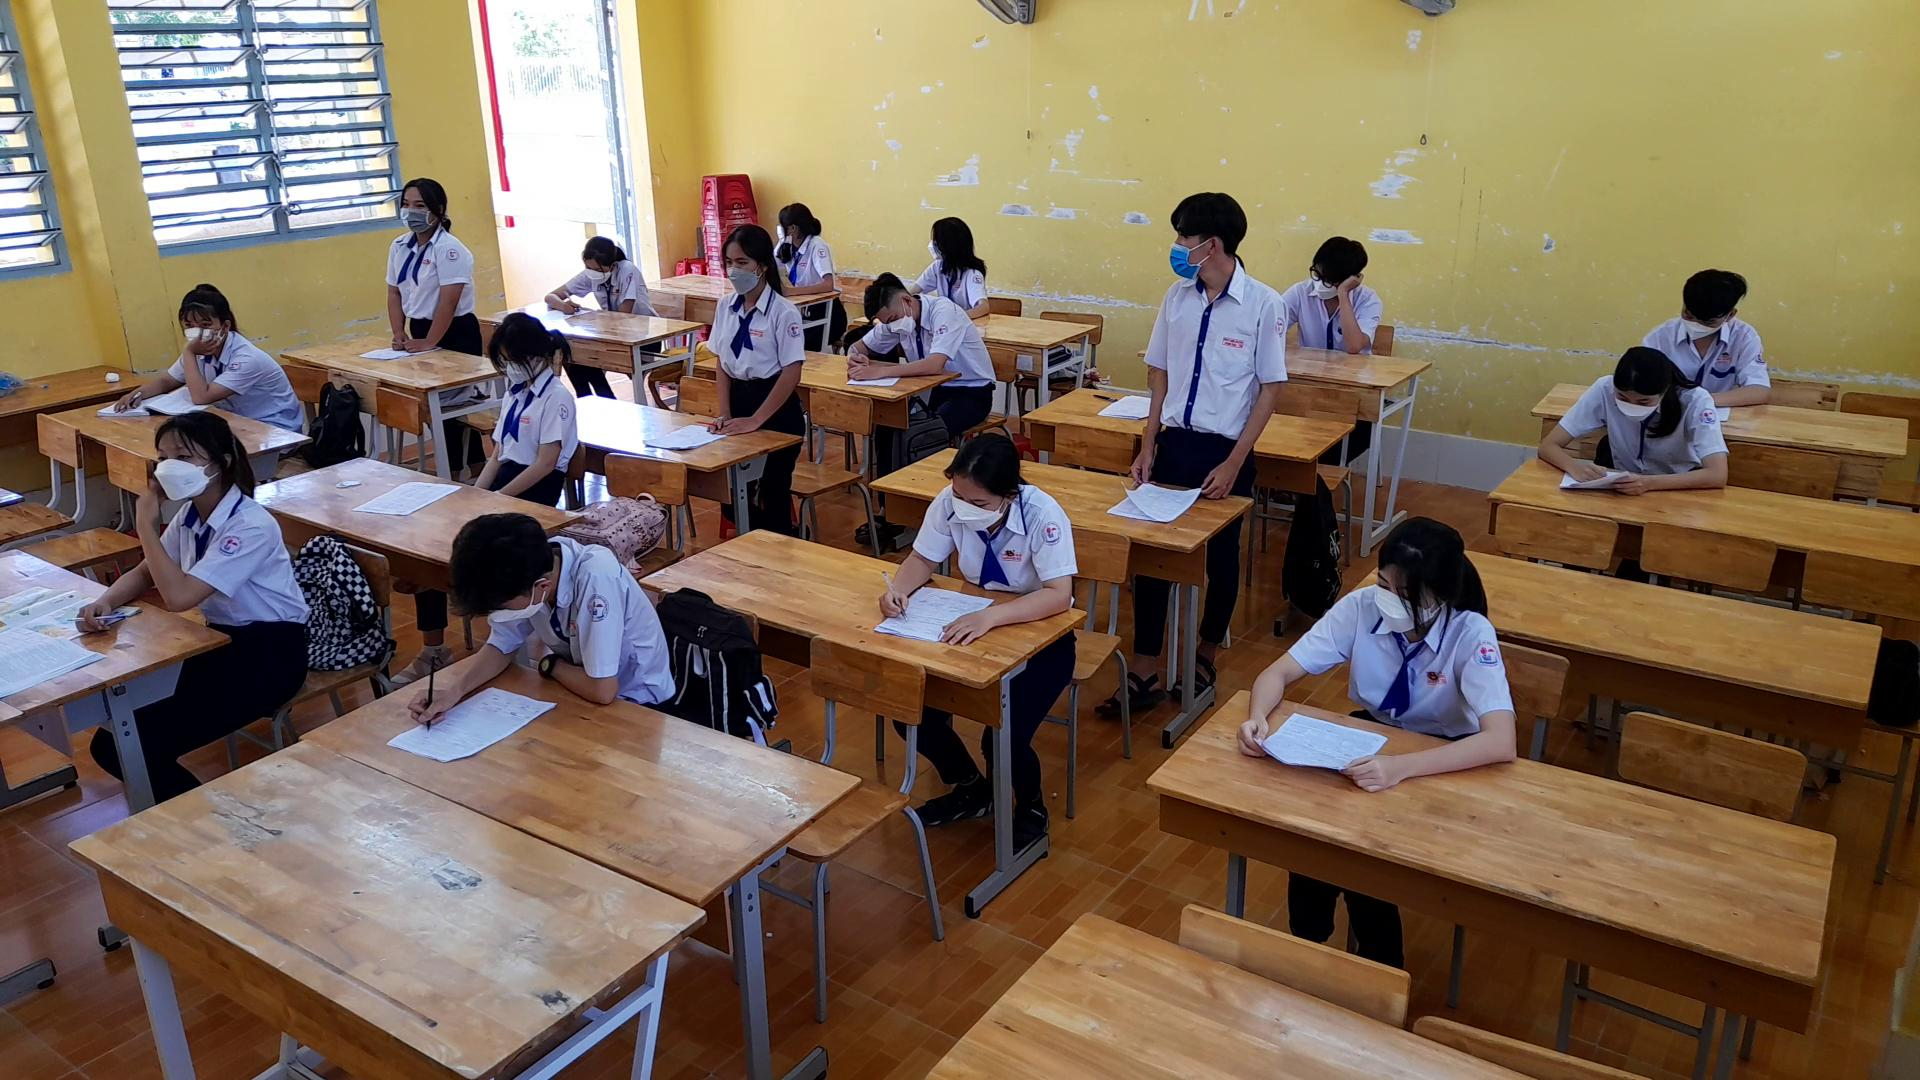Hand Under Table: (489, 381, 571, 502), (612, 260, 647, 320)
Look Around: (1117, 175, 1298, 512), (690, 212, 812, 444), (371, 164, 483, 359), (765, 191, 828, 255), (911, 210, 973, 272)
Normal: (1233, 506, 1536, 800), (398, 502, 688, 727), (872, 426, 1081, 651), (1534, 335, 1726, 509), (829, 265, 1001, 396)
Wave: (116, 481, 232, 612), (177, 324, 245, 410), (1327, 260, 1385, 357)
